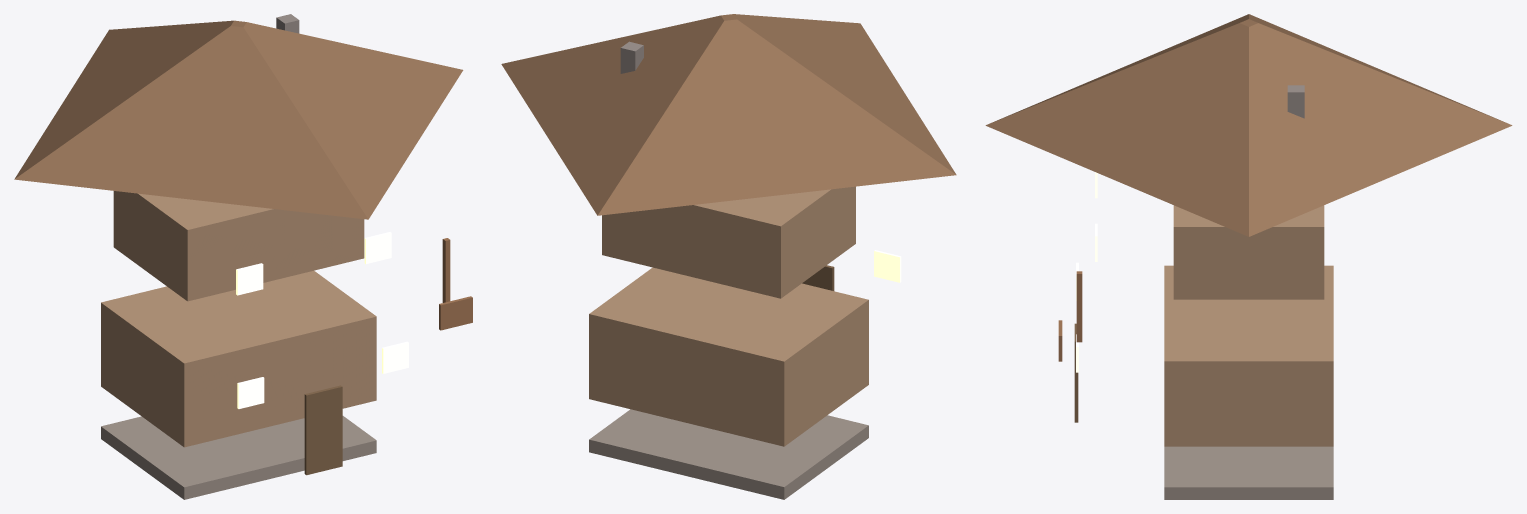
Rendered from VillageInn.fbx.
The picture shows the model from 3 angles, left to right: view 1: azimuth 30°, elevation 25°; view 2: azimuth 150°, elevation 25°; view 3: azimuth 270°, elevation 25°; orthographic projection.
Visible parts, largest first — view 1: VillageInn; view 2: VillageInn; view 3: VillageInn.
Part boxes in pixels (box(x1,y1,x2,y2)): VillageInn: box(14, 14, 472, 499); VillageInn: box(501, 14, 956, 499); VillageInn: box(985, 14, 1512, 499).
Size of the model in its own units: 560 by 502 by 560.
